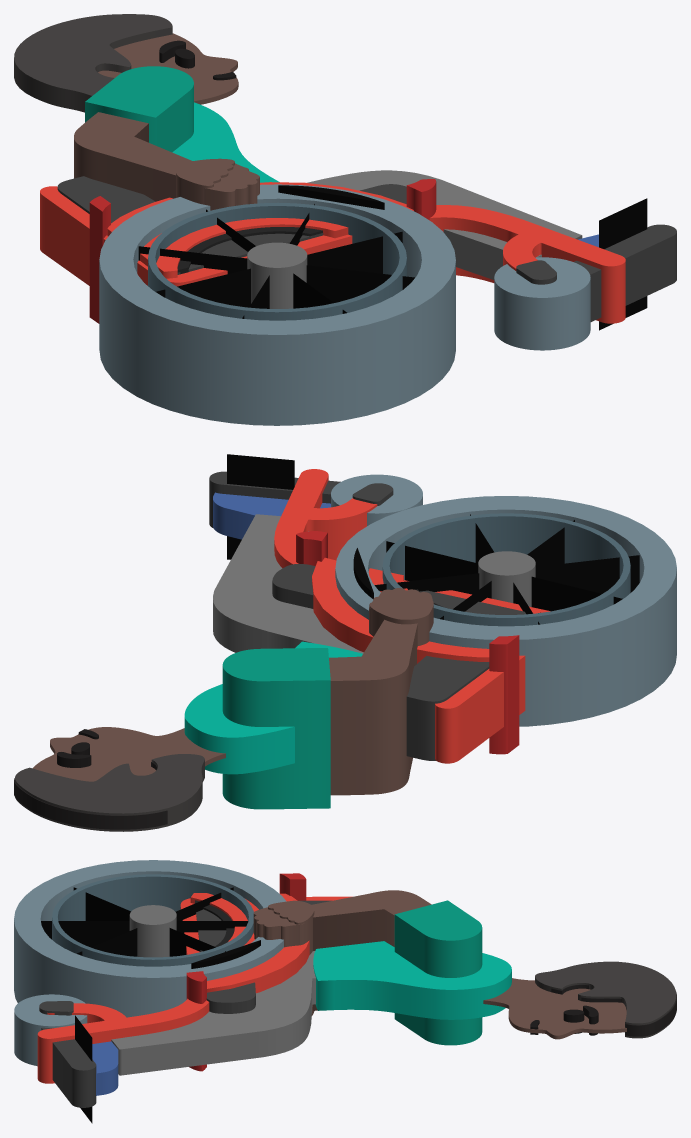
Rendered from emoji_u1f468_1f3ff_200d_1f9bd_200d_27a1.glb.
3 views of the same model, one above another, from view 1: azimuth 30°, elevation 25°; view 2: azimuth 150°, elevation 25°; view 3: azimuth 270°, elevation 25° (orthographic). The views are drawn at different scales.
Parts seen in each view (by area): view 1: emoji_u1f468_1f3ff_200d_1f9bd_200d_27a1; view 2: emoji_u1f468_1f3ff_200d_1f9bd_200d_27a1; view 3: emoji_u1f468_1f3ff_200d_1f9bd_200d_27a1.
Boxes of the visible parts, <box> form: emoji_u1f468_1f3ff_200d_1f9bd_200d_27a1: <box>14,14,676,425</box>; emoji_u1f468_1f3ff_200d_1f9bd_200d_27a1: <box>14,454,676,831</box>; emoji_u1f468_1f3ff_200d_1f9bd_200d_27a1: <box>14,860,676,1123</box>.
Bounding box in the file's own units: 0.0222 × 0.0056 × 0.0321.
